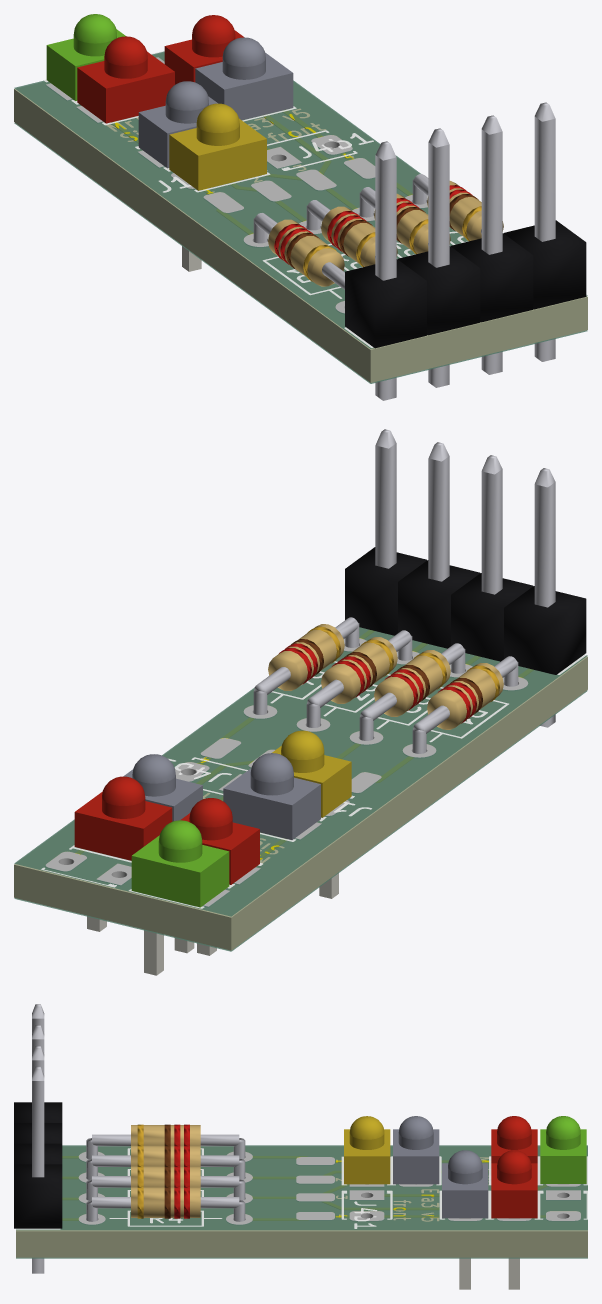
The model's file is MrJ-DB-Era3-breadboard-exit-off.glb.
The picture shows the model from 3 angles, top to bottom: view 1: azimuth 30°, elevation 25°; view 2: azimuth 150°, elevation 25°; view 3: azimuth 270°, elevation 25°; orthographic projection. The views are drawn at different scales.
Visible parts, largest first — view 1: =>[0:1:1:19], =>[0:1:1:3] (×4), =>[0:1:1:17], =>[0:1:1:5] (×4), =>[0:1:1:13] (×2), =>[0:1:1:7] (×2), =>[0:1:1:11], =>[0:1:1:15], =>[0:1:1:9], =>[0:1:1:16], =>[0:1:1:14], =>[0:1:1:18]; view 2: =>[0:1:1:19], =>[0:1:1:3] (×4), =>[0:1:1:17], =>[0:1:1:5] (×4), =>[0:1:1:7] (×2), =>[0:1:1:13] (×2), =>[0:1:1:9], =>[0:1:1:15], =>[0:1:1:11], =>[0:1:1:16], =>[0:1:1:14], =>[0:1:1:18]; view 3: =>[0:1:1:19], =>[0:1:1:17], =>[0:1:1:5] (×4), =>[0:1:1:3] (×4), =>[0:1:1:13] (×2), =>[0:1:1:7] (×2), =>[0:1:1:15], =>[0:1:1:11], =>[0:1:1:9], =>[0:1:1:16], =>[0:1:1:18], =>[0:1:1:14].
Boxes of the visible parts, <box> form: =>[0:1:1:19]: <box>14,53,587,382</box>; =>[0:1:1:3] (×4): <box>345,102,586,400</box>; =>[0:1:1:17]: <box>14,51,587,348</box>; =>[0:1:1:5] (×4): <box>253,174,503,289</box>; =>[0:1:1:13] (×2): <box>138,37,293,168</box>; =>[0:1:1:7] (×2): <box>77,15,243,123</box>; =>[0:1:1:11]: <box>169,103,266,271</box>; =>[0:1:1:15]: <box>46,57,427,313</box>; =>[0:1:1:9]: <box>46,14,125,100</box>; =>[0:1:1:16]: <box>43,50,586,347</box>; =>[0:1:1:14]: <box>112,111,412,234</box>; =>[0:1:1:18]: <box>14,123,587,383</box>; =>[0:1:1:19]: <box>14,628,587,950</box>; =>[0:1:1:3] (×4): <box>345,429,586,727</box>; =>[0:1:1:17]: <box>14,627,587,916</box>; =>[0:1:1:5] (×4): <box>253,617,518,753</box>; =>[0:1:1:7] (×2): <box>74,776,259,953</box>; =>[0:1:1:13] (×2): <box>123,753,320,839</box>; =>[0:1:1:9]: <box>131,820,229,975</box>; =>[0:1:1:15]: <box>45,638,528,906</box>; =>[0:1:1:11]: <box>272,730,351,898</box>; =>[0:1:1:16]: <box>41,654,586,908</box>; =>[0:1:1:14]: <box>75,630,532,860</box>; =>[0:1:1:18]: <box>14,690,587,951</box>; =>[0:1:1:19]: <box>16,1147,587,1257</box>; =>[0:1:1:17]: <box>16,1145,587,1230</box>; =>[0:1:1:5] (×4): <box>86,1124,245,1221</box>; =>[0:1:1:3] (×4): <box>14,1004,62,1273</box>; =>[0:1:1:13] (×2): <box>393,1116,488,1289</box>; =>[0:1:1:7] (×2): <box>491,1116,537,1289</box>; =>[0:1:1:15]: <box>78,1152,580,1224</box>; =>[0:1:1:11]: <box>344,1116,390,1184</box>; =>[0:1:1:9]: <box>540,1116,586,1184</box>; =>[0:1:1:16]: <box>16,1148,587,1229</box>; =>[0:1:1:18]: <box>16,1257,587,1258</box>; =>[0:1:1:14]: <box>63,1156,546,1220</box>.
Bounding box in the file's own units: 0.0104 × 0.0127 × 0.0297.
